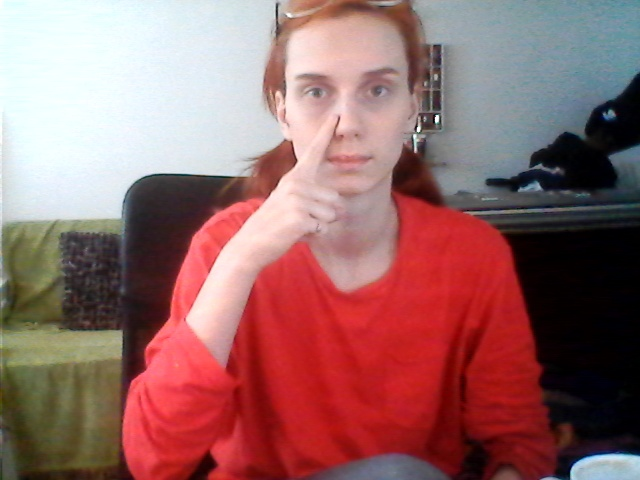mama: (291, 112, 355, 242)
